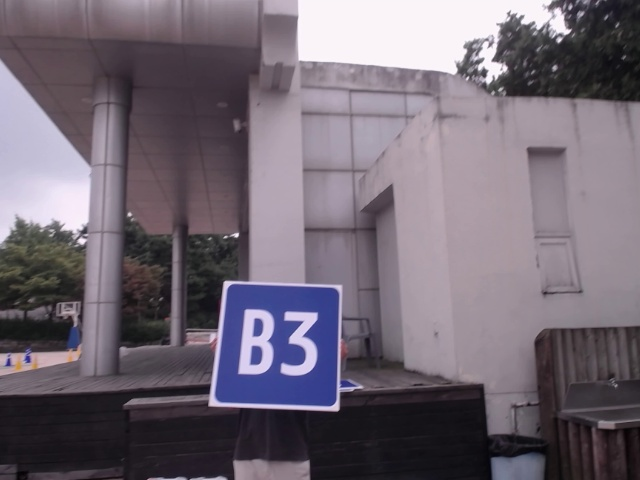delivery_b3: (219, 284, 342, 408)
